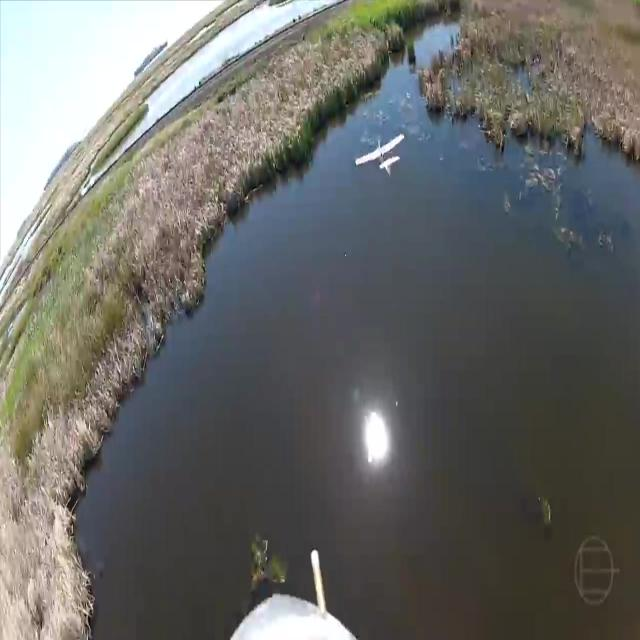iha: (353, 133, 405, 177)
